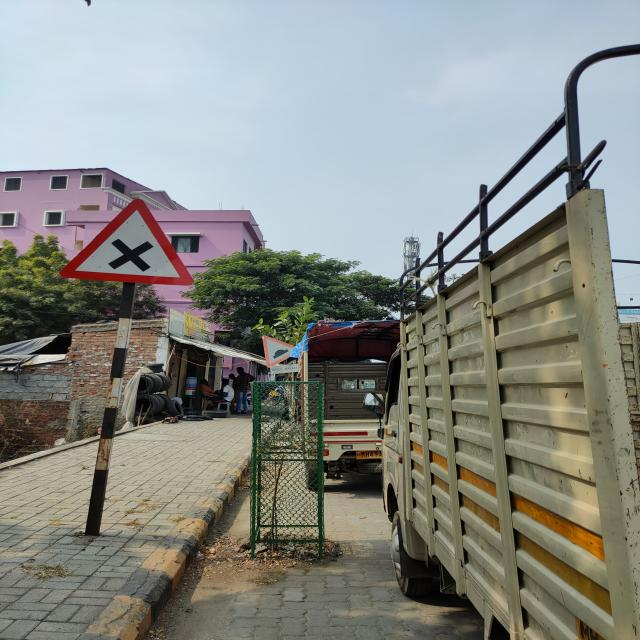CROSS_ROAD: (56, 197, 195, 287)
HUMP_OR_ROUGH_ROAD: (260, 334, 298, 368)
